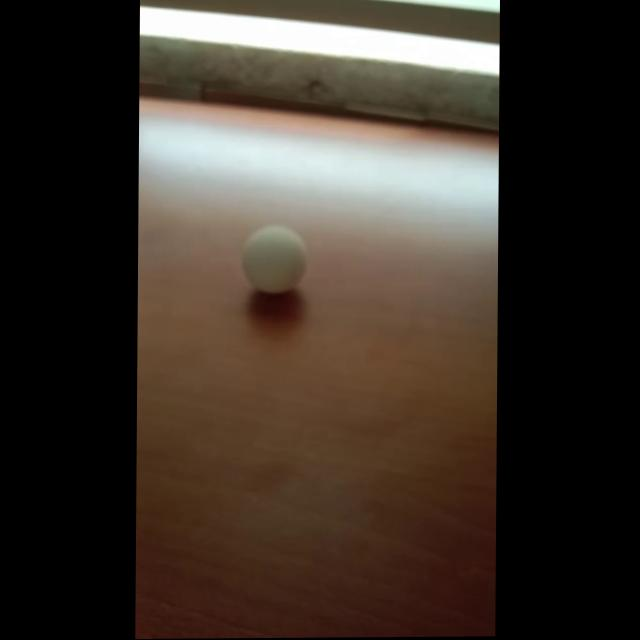white ball: (241, 224, 307, 294)
